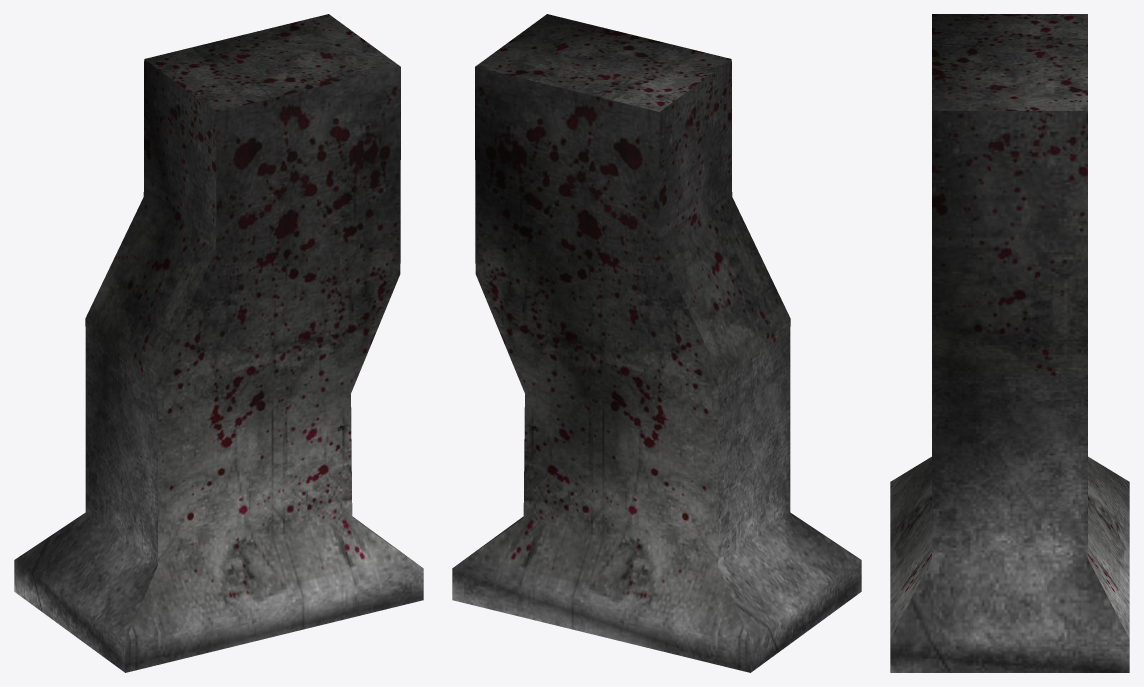
File: cooker hood.FBX
3 renders of one model, left to right at view 1: azimuth 30°, elevation 25°; view 2: azimuth 150°, elevation 25°; view 3: azimuth 270°, elevation 25°, orthographic. The views are drawn at different scales.
Parts seen in each view (by area): view 1: Box012; view 2: Box012; view 3: Box012.
Part boxes in pixels (x1,y1,x2,y2): Box012: (14,14,423,672); Box012: (452,14,861,672); Box012: (890,14,1129,672).
Bounding box in the file's own units: 56.03 × 93.34 × 36.11.
Materials: 1 (1 with a texture image).
